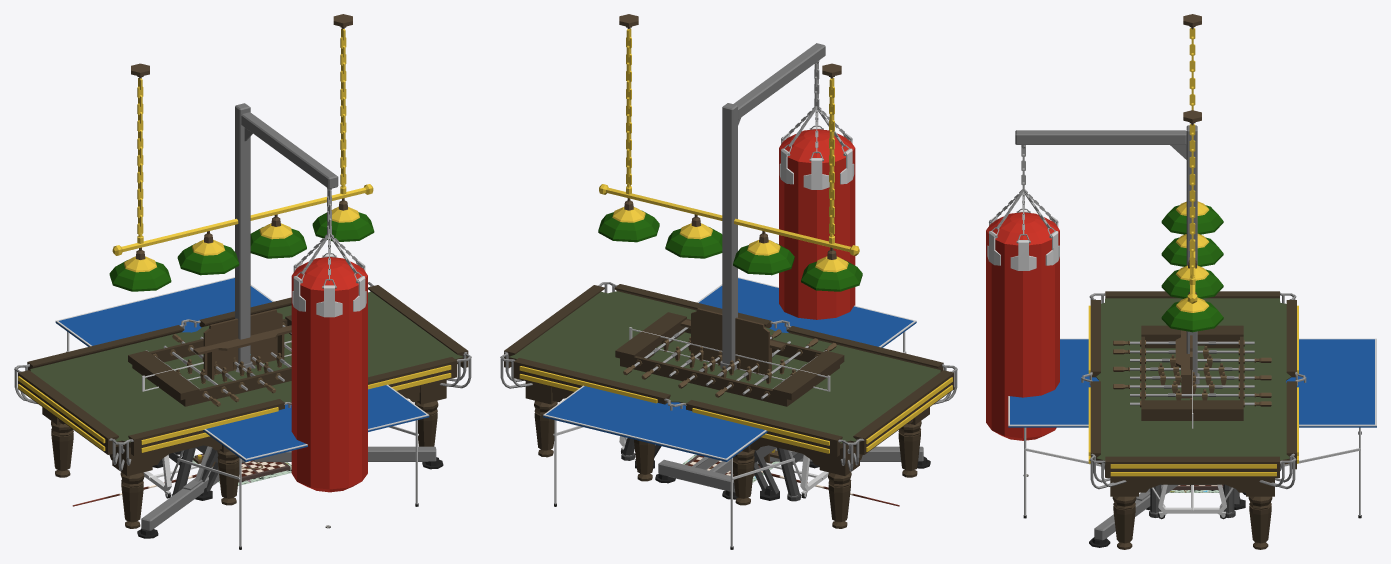
Rendered from boardgames.glb.
3 renders of one model, left to right at view 1: azimuth 30°, elevation 25°; view 2: azimuth 150°, elevation 25°; view 3: azimuth 270°, elevation 25°, orthographic. The views are drawn at different scales.
Parts seen in each view (by area): view 1: SM_billiard_table, SM_punching_bag, SM_ping_pong_table, Cylinder_1, SM_table_football, SM_cue_stand, SM_air_hockey_table; view 2: SM_billiard_table, SM_punching_bag, SM_ping_pong_table, Cylinder_1, SM_table_football, SM_cue_stand, SM_air_hockey_table; view 3: SM_billiard_table, SM_punching_bag, SM_ping_pong_table, Cylinder_1, SM_table_football, SM_cue_stand, Cube_7, Cube_11, Cube_8, Cube_5, Cube_6, Cube_10.
Part boxes in pixels (bbox=[...]): SM_billiard_table: bbox=[14, 282, 471, 528]; SM_punching_bag: bbox=[137, 103, 443, 538]; SM_ping_pong_table: bbox=[55, 277, 429, 549]; Cylinder_1: bbox=[109, 14, 374, 291]; SM_table_football: bbox=[128, 315, 291, 496]; SM_cue_stand: bbox=[193, 309, 291, 466]; SM_air_hockey_table: bbox=[152, 445, 218, 500]; SM_billiard_table: bbox=[500, 282, 957, 528]; SM_punching_bag: bbox=[655, 43, 930, 499]; SM_ping_pong_table: bbox=[543, 277, 916, 549]; Cylinder_1: bbox=[598, 14, 862, 291]; SM_table_football: bbox=[615, 312, 844, 501]; SM_cue_stand: bbox=[680, 308, 785, 465]; SM_air_hockey_table: bbox=[635, 445, 819, 500]; SM_billiard_table: bbox=[1081, 291, 1306, 549]; SM_punching_bag: bbox=[986, 125, 1245, 547]; SM_ping_pong_table: bbox=[1008, 338, 1376, 519]; Cylinder_1: bbox=[1161, 14, 1223, 332]; SM_table_football: bbox=[1140, 325, 1244, 517]; SM_cue_stand: bbox=[1175, 330, 1192, 486]; Cube_7: bbox=[1130, 372, 1271, 385]; Cube_11: bbox=[1113, 363, 1254, 376]; Cube_8: bbox=[1113, 381, 1254, 393]; Cube_5: bbox=[1130, 389, 1271, 400]; Cube_6: bbox=[1130, 354, 1271, 367]; Cube_10: bbox=[1113, 346, 1254, 358].
Bounding box in the file's own units: 2.99 × 3.34 × 2.87.
Materials: 240 (240 with a texture image).
